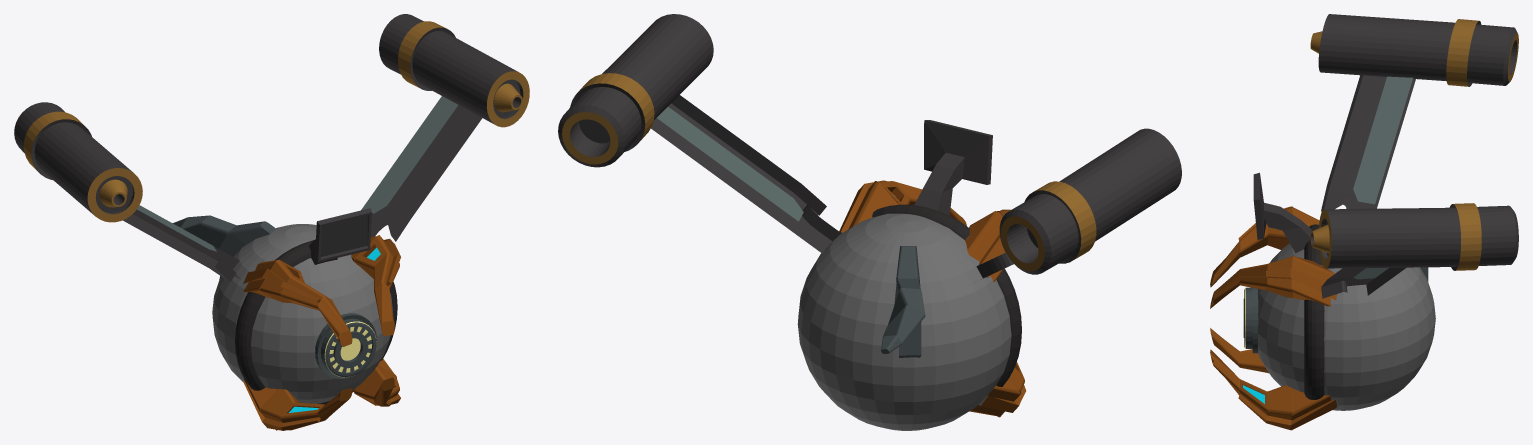
File: parkour_game_enemy.fbx
3 views of the same model, side by side, from view 1: azimuth 30°, elevation 25°; view 2: azimuth 150°, elevation 25°; view 3: azimuth 270°, elevation 25° (orthographic). The views are drawn at different scales.
Parts seen in each view (by area): view 1: Drone; view 2: Drone; view 3: Drone.
Boxes of the visible parts, <box> form: Drone: <box>14,14,529,430</box>; Drone: <box>558,14,1181,430</box>; Drone: <box>1210,14,1518,430</box>.
Bounding box in the file's own units: 563 × 347 × 334.
